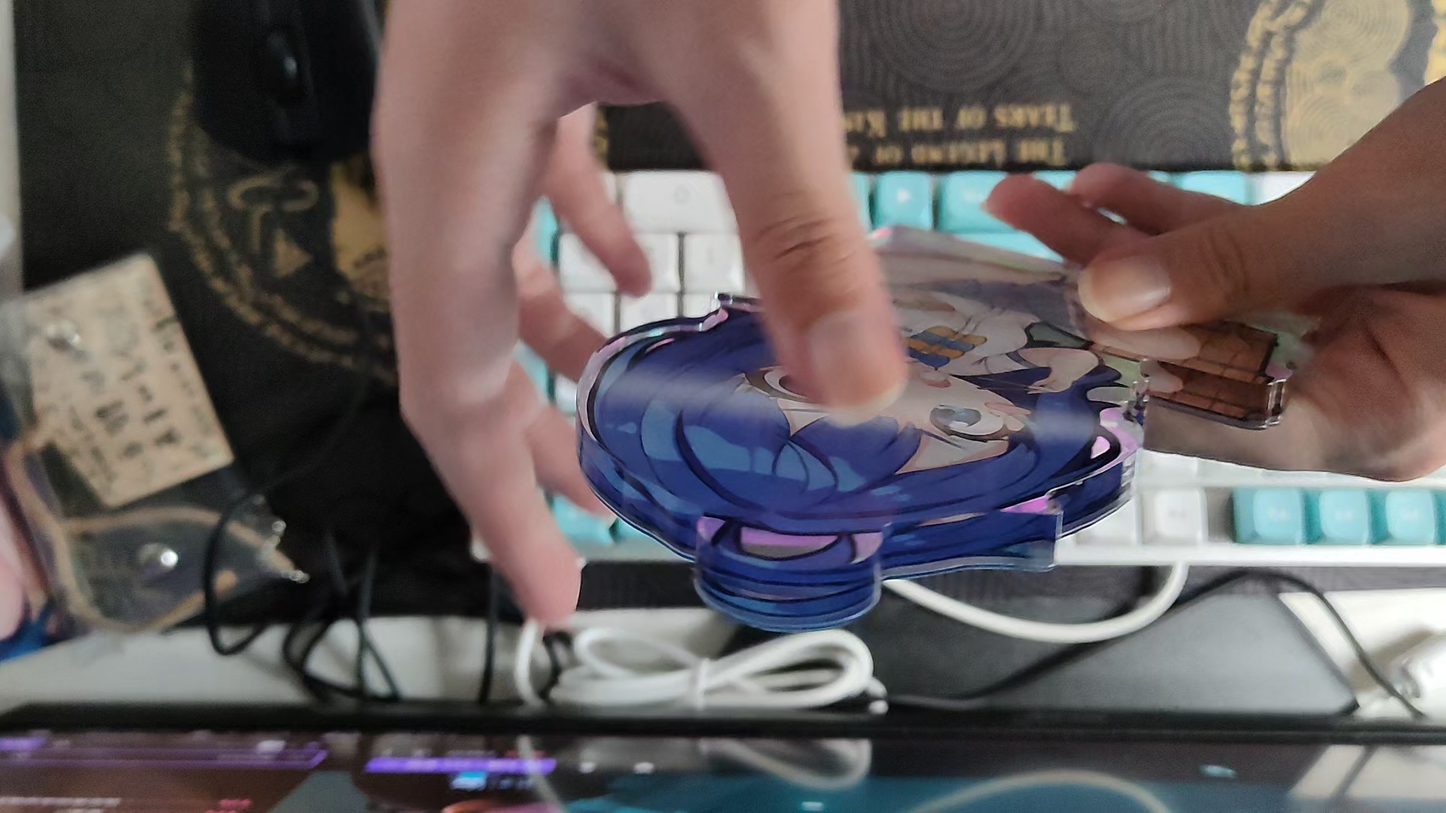Yanami-anna: (575, 221, 1320, 638)
